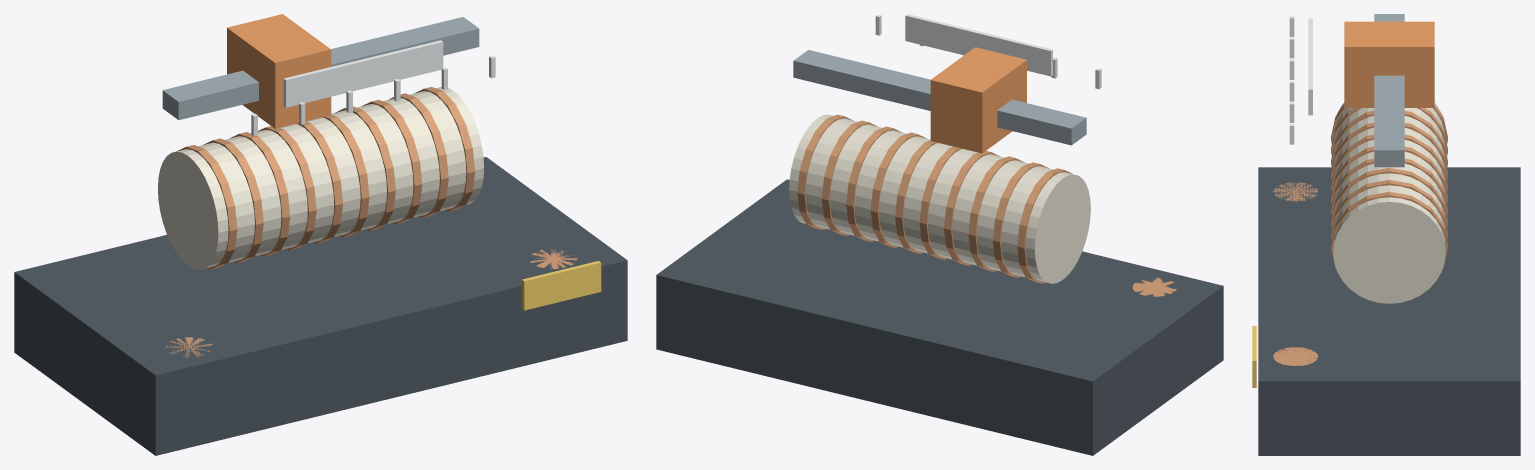
Rendered from rheostat_lod1.glb.
3 renders of one model, left to right at view 1: azimuth 30°, elevation 25°; view 2: azimuth 150°, elevation 25°; view 3: azimuth 270°, elevation 25°, orthographic. The views are drawn at different scales.
Visible parts, largest first — view 1: RHEO_BASE_MAT_POLYMER_BLACK, RHEO_CORE_MAT_CERAMIC, RHEO_SLIDER_MAT_ORANGE, RHEO_RAIL_MAT_METAL_BRUSHED, RHEO_SCALE_LABEL_MAT_LABEL, RHEO_HOT_LABEL_MAT_WARNING, RHEO_WIRE_1_MAT_METAL_COPPER, RHEO_WIRE_7_MAT_METAL_COPPER, RHEO_WIRE_0_MAT_METAL_COPPER, RHEO_WIRE_9_MAT_METAL_COPPER, RHEO_WIRE_2_MAT_METAL_COPPER, RHEO_WIRE_3_MAT_METAL_COPPER (+4 smaller); view 2: RHEO_BASE_MAT_POLYMER_BLACK, RHEO_CORE_MAT_CERAMIC, RHEO_SLIDER_MAT_ORANGE, RHEO_RAIL_MAT_METAL_BRUSHED, RHEO_SCALE_LABEL_MAT_LABEL, RHEO_WIRE_1_MAT_METAL_COPPER, RHEO_WIRE_2_MAT_METAL_COPPER, RHEO_WIRE_6_MAT_METAL_COPPER, RHEO_WIRE_8_MAT_METAL_COPPER, RHEO_WIRE_9_MAT_METAL_COPPER, RHEO_WIRE_7_MAT_METAL_COPPER, RHEO_WIRE_0_MAT_METAL_COPPER (+3 smaller); view 3: RHEO_BASE_MAT_POLYMER_BLACK, RHEO_CORE_MAT_CERAMIC, RHEO_SLIDER_MAT_ORANGE, RHEO_RAIL_MAT_METAL_BRUSHED, RHEO_WIRE_9_MAT_METAL_COPPER, RHEO_WIRE_8_MAT_METAL_COPPER, RHEO_WIRE_7_MAT_METAL_COPPER, RHEO_TERM_0.52_MAT_METAL_COPPER, RHEO_WIRE_2_MAT_METAL_COPPER, RHEO_WIRE_5_MAT_METAL_COPPER, RHEO_WIRE_6_MAT_METAL_COPPER, RHEO_WIRE_4_MAT_METAL_COPPER (+5 smaller).
Part boxes in pixels (<box>): RHEO_BASE_MAT_POLYMER_BLACK: <box>14,157,627,455</box>; RHEO_CORE_MAT_CERAMIC: <box>158,87,483,269</box>; RHEO_SLIDER_MAT_ORANGE: <box>227,14,331,128</box>; RHEO_RAIL_MAT_METAL_BRUSHED: <box>162,17,479,119</box>; RHEO_SCALE_LABEL_MAT_LABEL: <box>283,40,443,107</box>; RHEO_HOT_LABEL_MAT_WARNING: <box>522,261,601,310</box>; RHEO_WIRE_1_MAT_METAL_COPPER: <box>203,138,263,263</box>; RHEO_WIRE_7_MAT_METAL_COPPER: <box>362,99,422,224</box>; RHEO_WIRE_0_MAT_METAL_COPPER: <box>177,145,237,269</box>; RHEO_WIRE_9_MAT_METAL_COPPER: <box>414,87,475,211</box>; RHEO_WIRE_2_MAT_METAL_COPPER: <box>229,132,290,256</box>; RHEO_WIRE_3_MAT_METAL_COPPER: <box>258,126,316,250</box>; RHEO_BASE_MAT_POLYMER_BLACK: <box>656,179,1223,455</box>; RHEO_CORE_MAT_CERAMIC: <box>789,114,1090,283</box>; RHEO_SLIDER_MAT_ORANGE: <box>930,47,1026,153</box>; RHEO_RAIL_MAT_METAL_BRUSHED: <box>793,50,1086,145</box>; RHEO_SCALE_LABEL_MAT_LABEL: <box>905,14,1052,76</box>; RHEO_WIRE_1_MAT_METAL_COPPER: <box>993,162,1048,277</box>; RHEO_WIRE_2_MAT_METAL_COPPER: <box>968,156,1024,271</box>; RHEO_WIRE_6_MAT_METAL_COPPER: <box>870,132,926,247</box>; RHEO_WIRE_8_MAT_METAL_COPPER: <box>821,120,877,235</box>; RHEO_WIRE_9_MAT_METAL_COPPER: <box>797,114,853,229</box>; RHEO_WIRE_7_MAT_METAL_COPPER: <box>846,126,902,241</box>; RHEO_WIRE_0_MAT_METAL_COPPER: <box>1017,168,1072,283</box>; RHEO_BASE_MAT_POLYMER_BLACK: <box>1258,167,1520,455</box>; RHEO_CORE_MAT_CERAMIC: <box>1333,102,1445,303</box>; RHEO_SLIDER_MAT_ORANGE: <box>1344,21,1434,107</box>; RHEO_RAIL_MAT_METAL_BRUSHED: <box>1374,14,1404,167</box>; RHEO_WIRE_9_MAT_METAL_COPPER: <box>1331,191,1447,269</box>; RHEO_WIRE_8_MAT_METAL_COPPER: <box>1331,180,1447,239</box>; RHEO_WIRE_7_MAT_METAL_COPPER: <box>1331,168,1447,227</box>; RHEO_TERM_0.52_MAT_METAL_COPPER: <box>1273,347,1318,365</box>; RHEO_WIRE_2_MAT_METAL_COPPER: <box>1331,110,1447,167</box>; RHEO_WIRE_5_MAT_METAL_COPPER: <box>1331,146,1447,203</box>; RHEO_WIRE_6_MAT_METAL_COPPER: <box>1331,158,1447,215</box>; RHEO_WIRE_4_MAT_METAL_COPPER: <box>1331,134,1447,191</box>.
Bounding box in the file's own units: 1.35 × 0.87 × 0.716.
